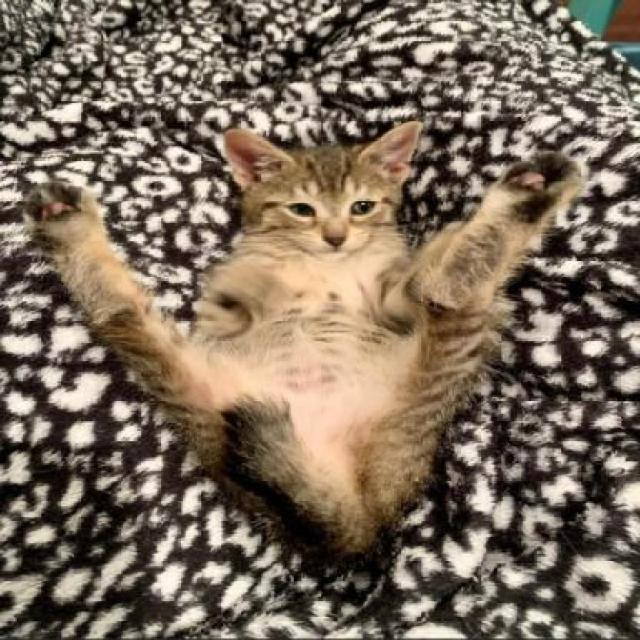cat: (15, 115, 640, 563)
